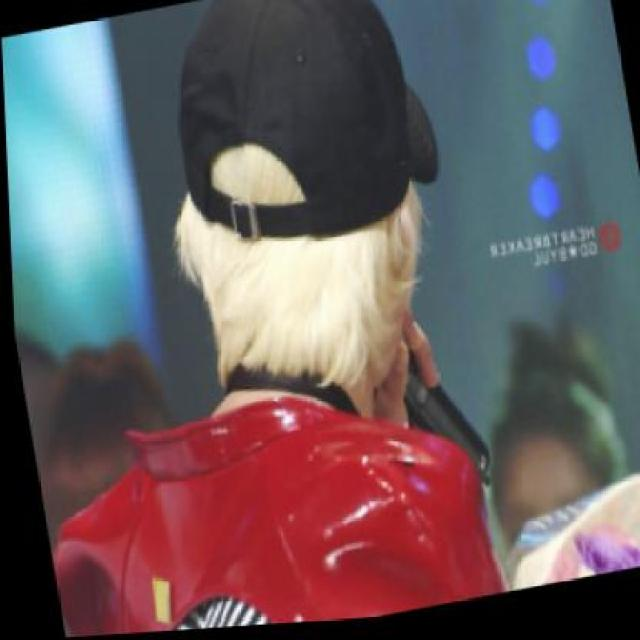hat: (156, 0, 447, 265)
